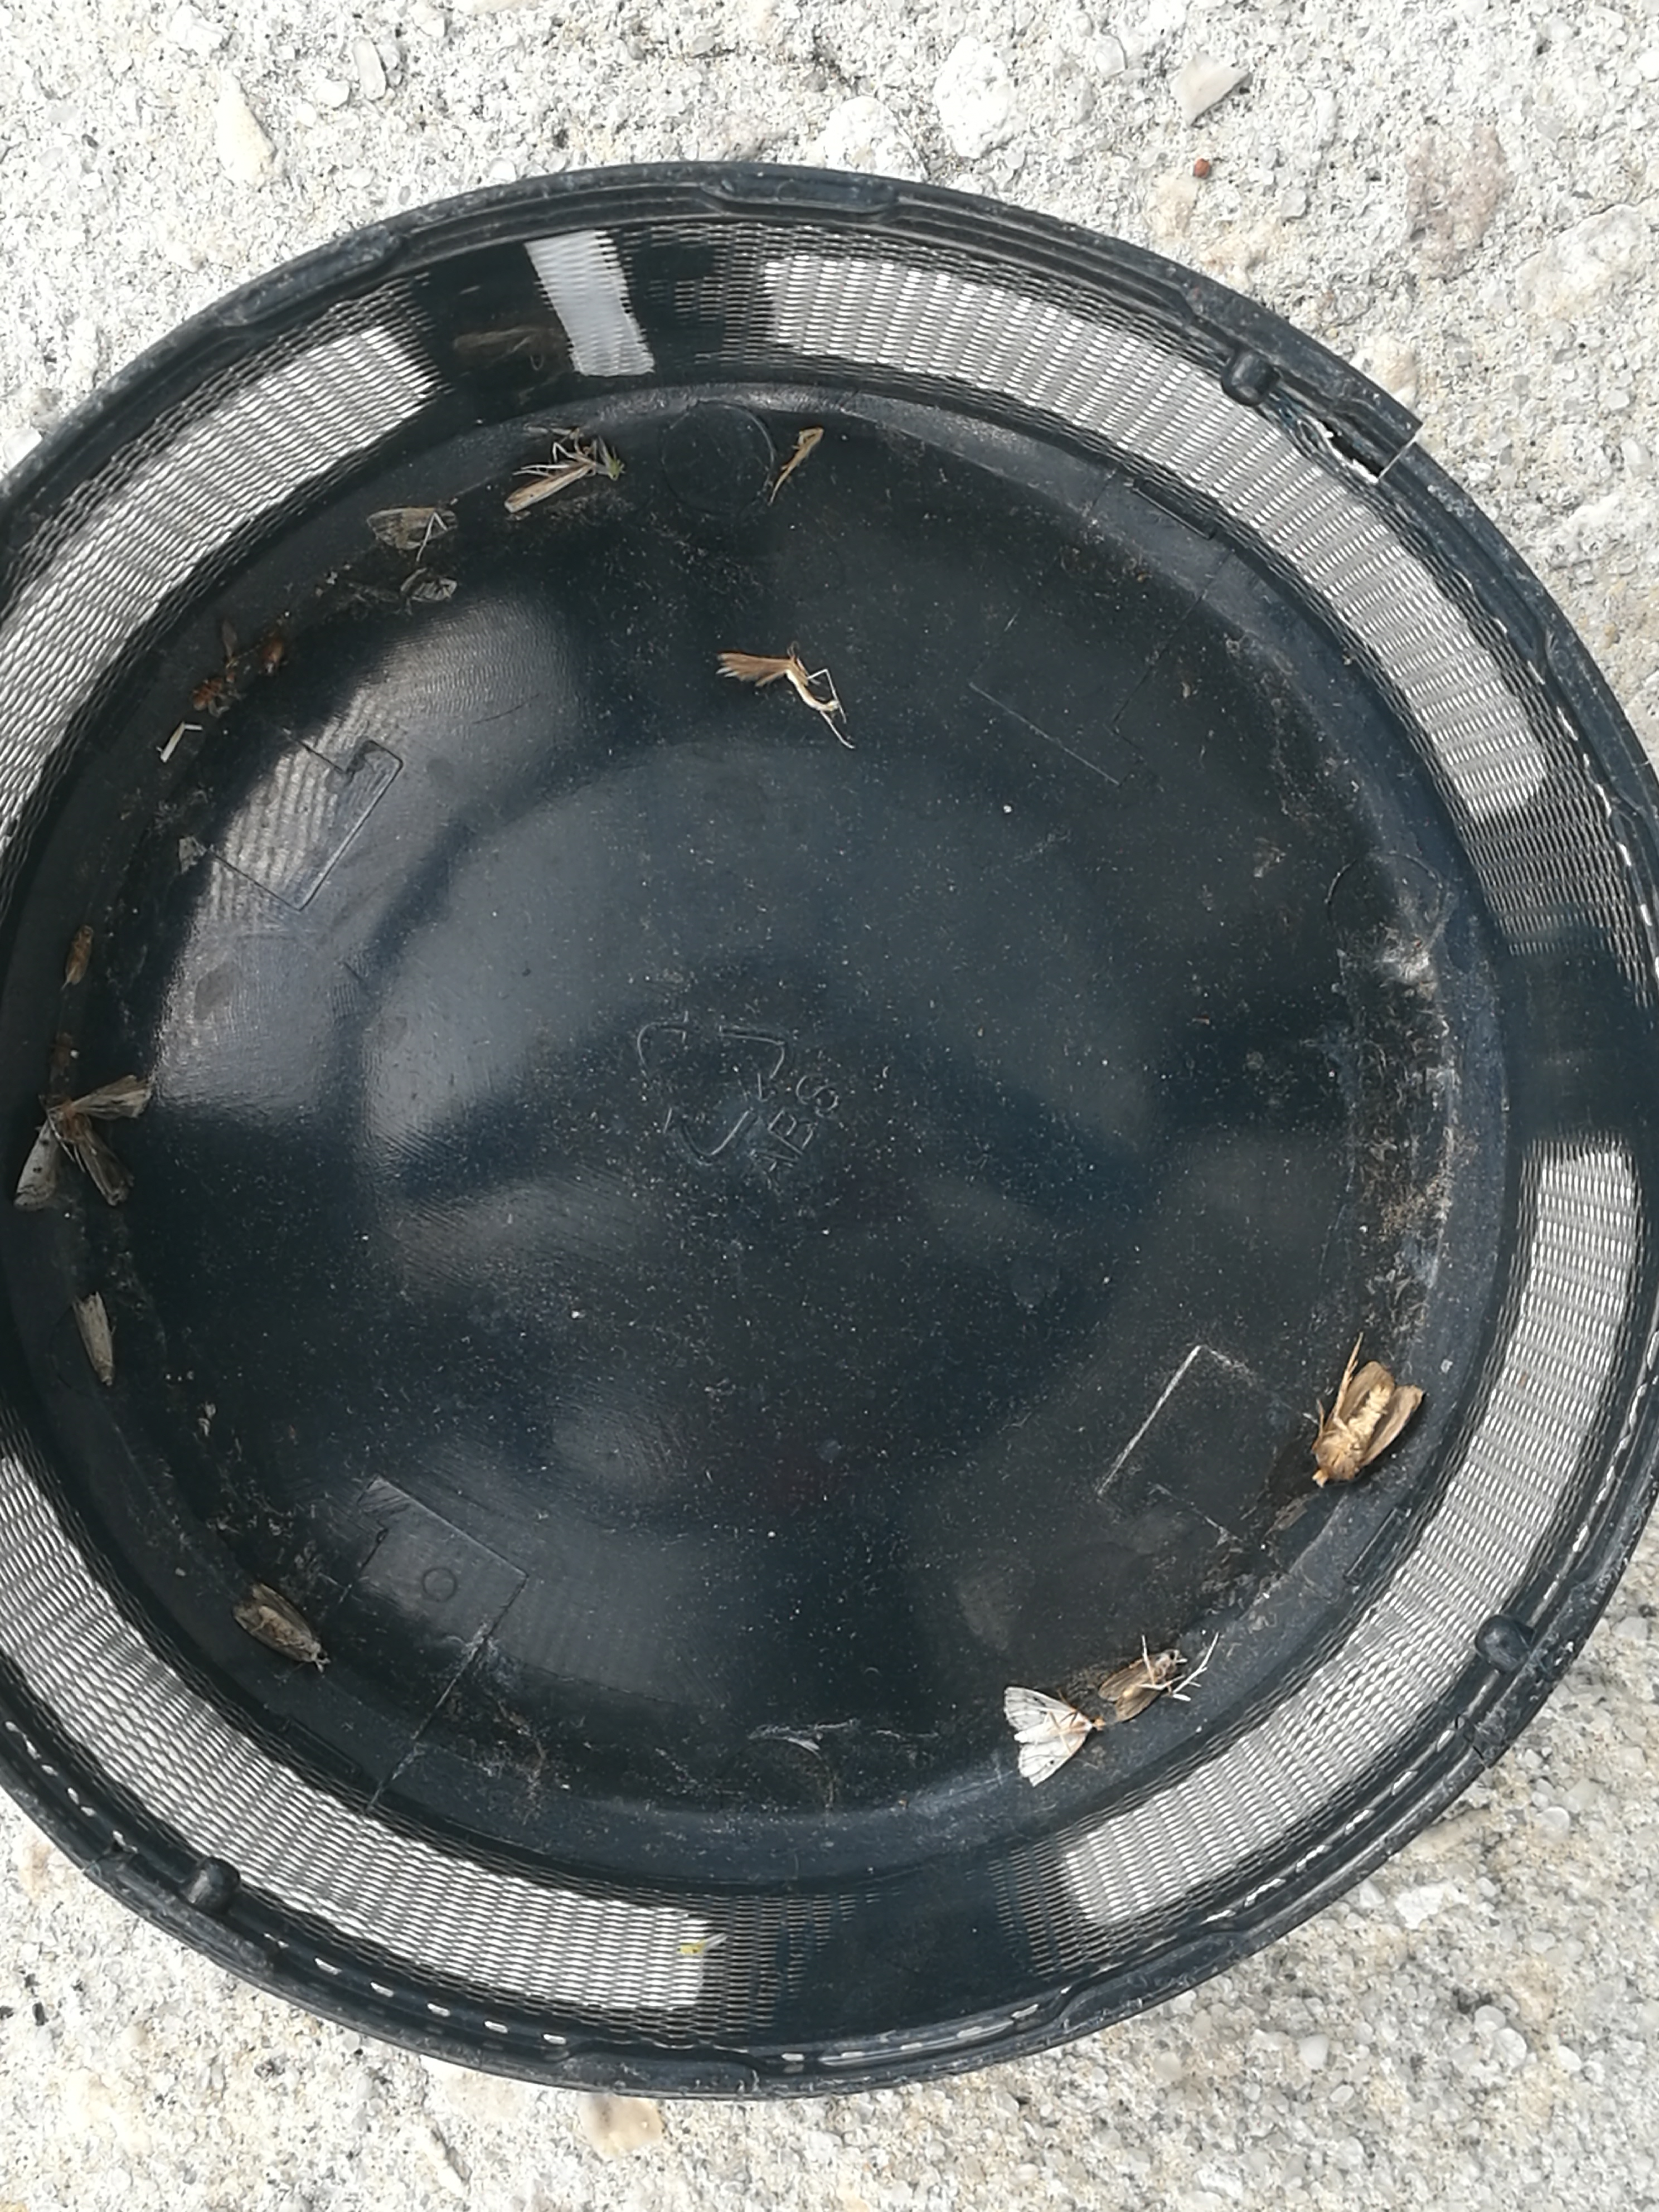mosquito: (502, 458, 594, 509), (77, 1294, 117, 1390), (66, 923, 96, 986)
moth: (1310, 1332, 1427, 1487), (21, 1076, 150, 1209), (1004, 1691, 1087, 1785), (1096, 1646, 1187, 1724), (235, 1587, 324, 1663)
